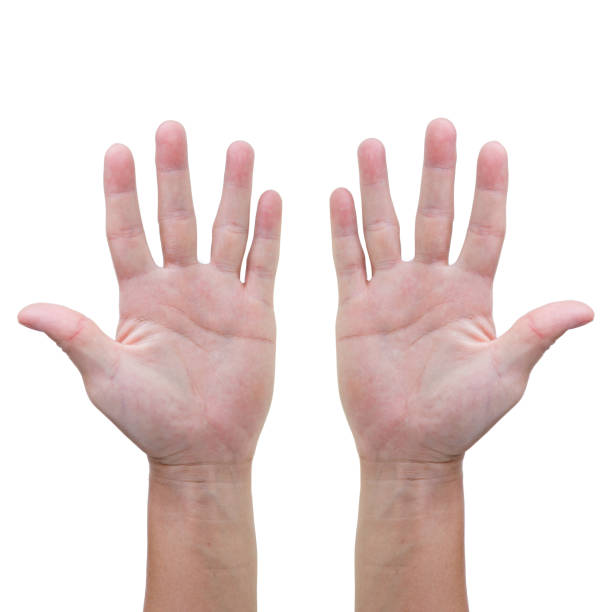hand: (6, 105, 320, 519), (296, 93, 605, 506)
